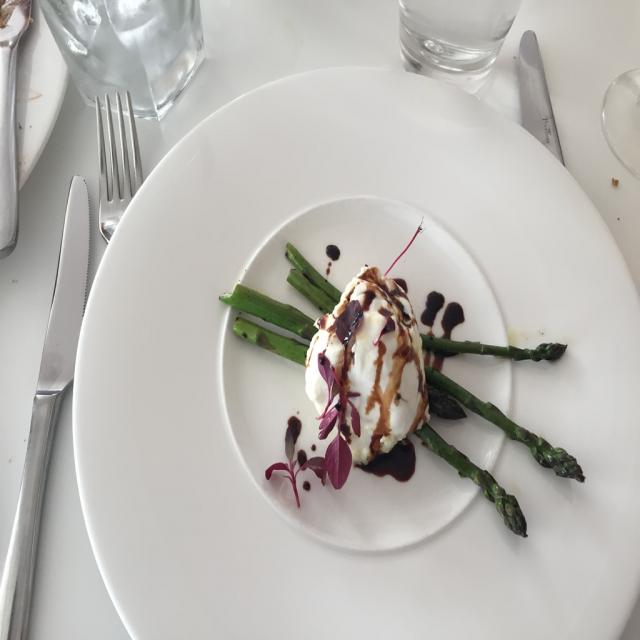non-organic waste: (72, 73, 640, 640)
